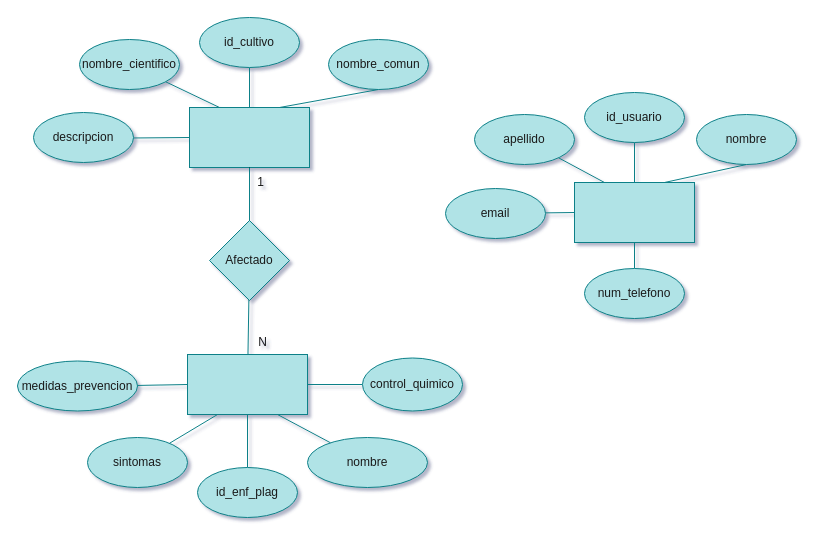
The diagram is 820 pixels wide and 541 high, and some of its shapes have lost their labels. The shapes that lost their labels are listed below. From the top down, each one's centre as x and y in pixels, then its label:
pixel 249 137: Cultivo
pixel 634 212: Usuario
pixel 247 384: Enfermedad_Plaga
